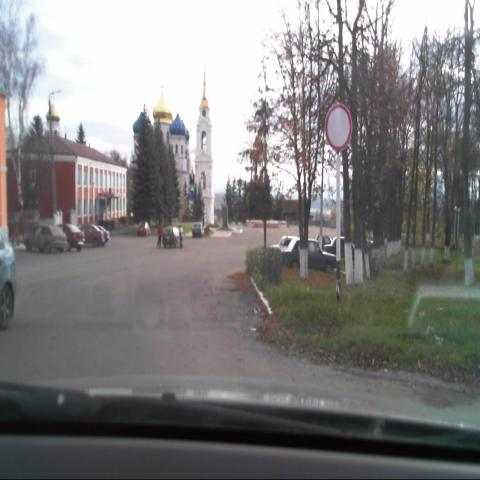3_2: (323, 102, 353, 151)
